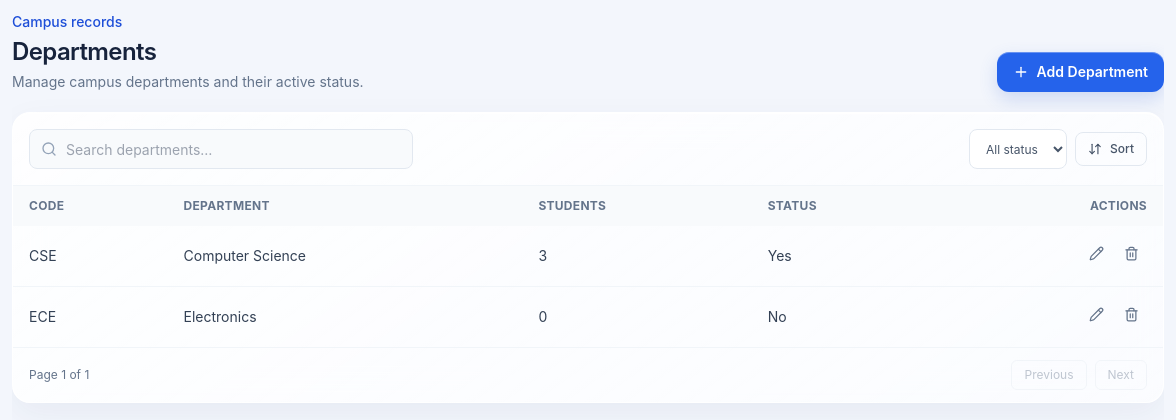
Scenario: ModuleManager › deletes a record after confirmation
Click the button named "delete departments record" in the row of "CSE".
click(1132, 254)  # box [1116,238,1147,269]
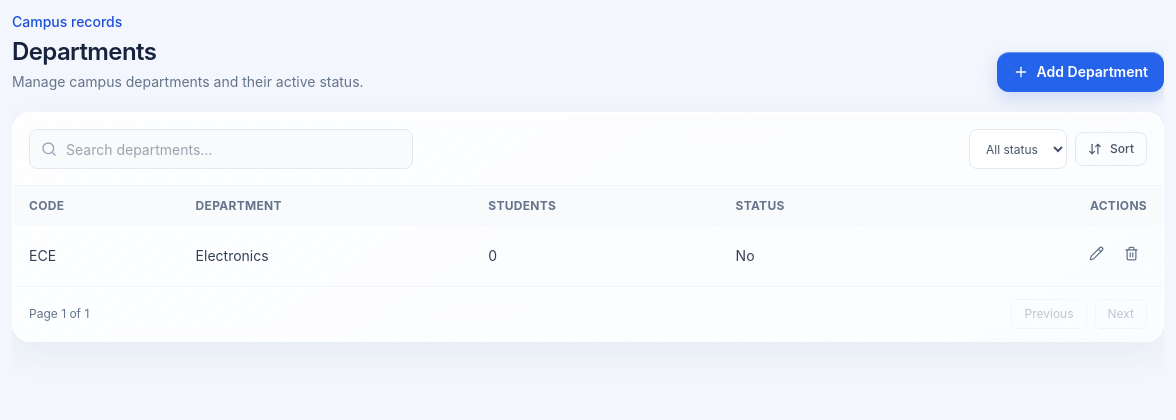
Now the text "Computer Science" is gone
